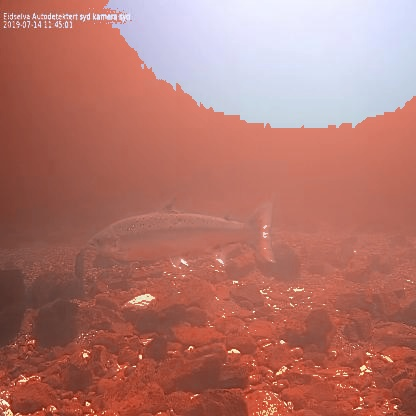salmon: (87, 194, 280, 269)
